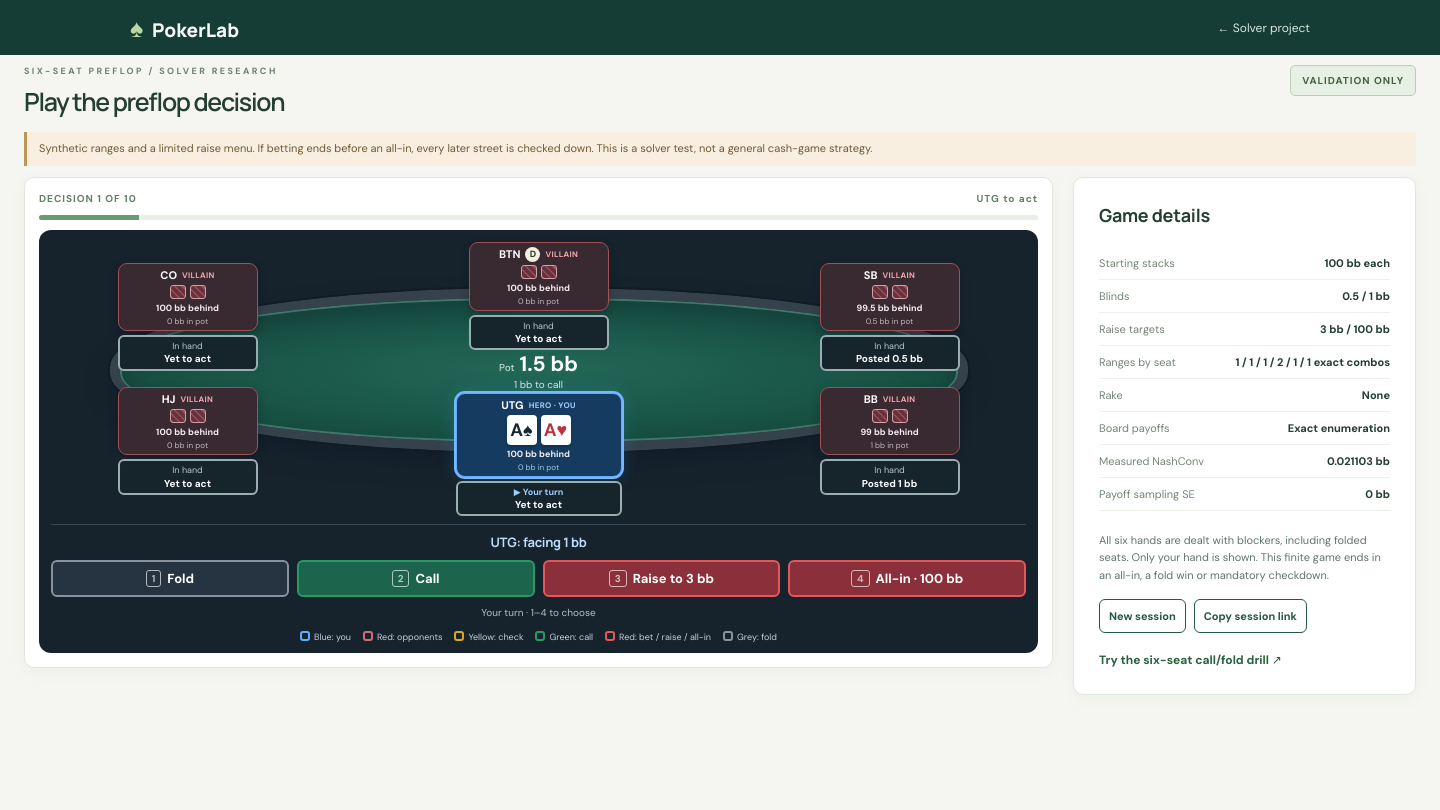
rejects changed public history in a grading response
The width and height of the screenshot is (1440, 810).
Expected: the text "DECISION 1 OF 10" is shown, left=39, top=192, right=137, bottom=205
Click the button "2 Call": (416, 578) left=297, top=560, right=535, bottom=597
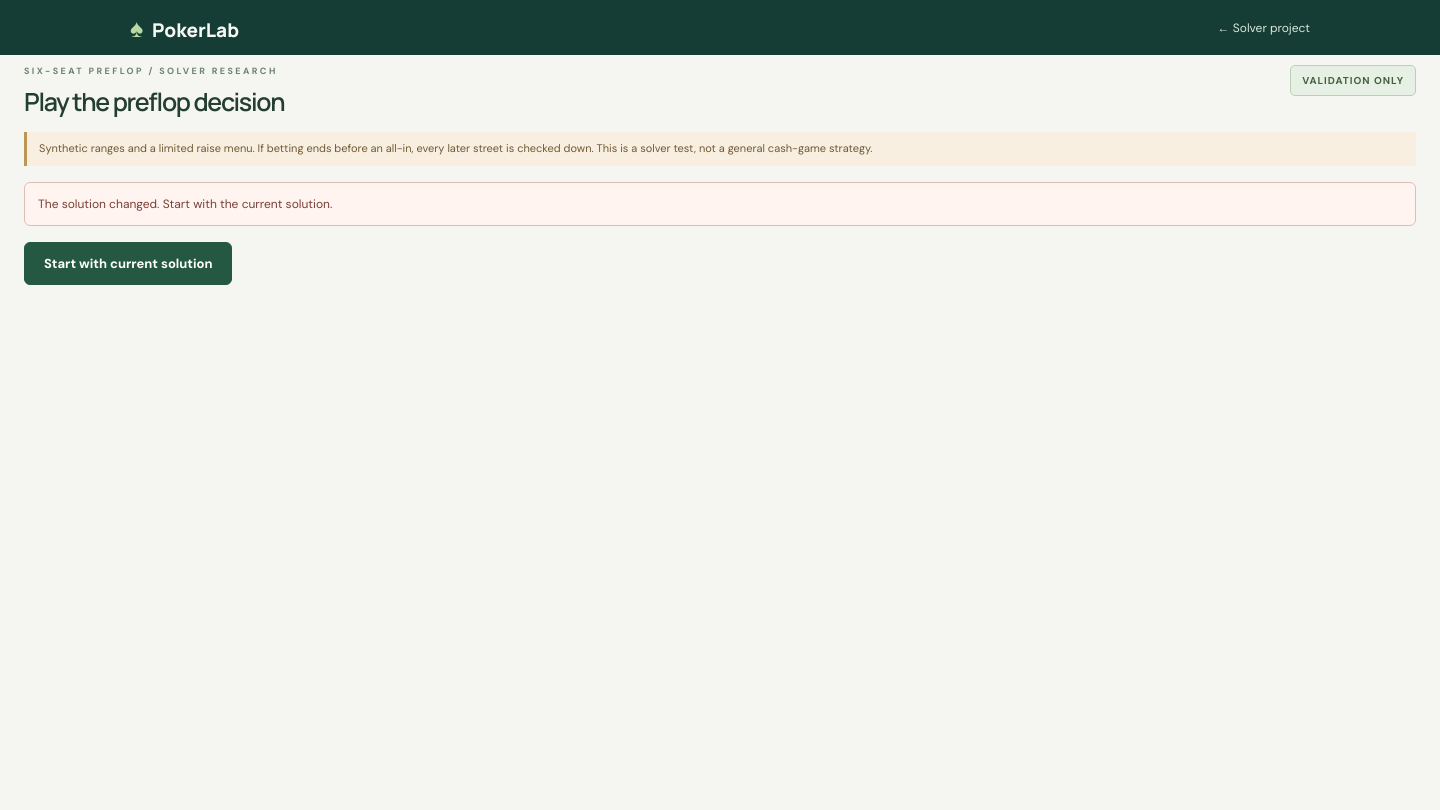
Result: the message shows "solution changed" at left=38, top=196, right=332, bottom=212
